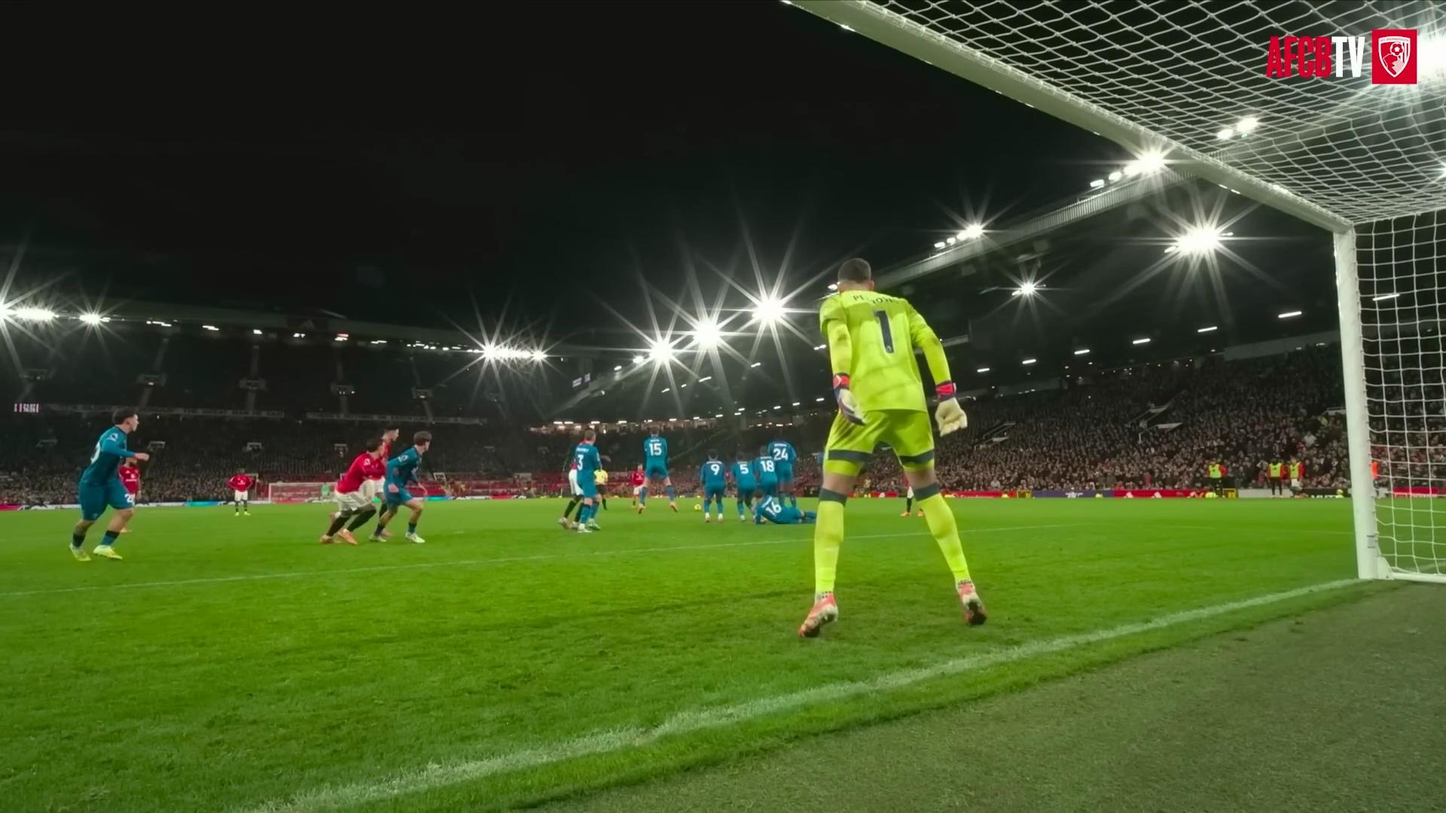player: (799, 259, 985, 636), (71, 409, 148, 560), (320, 438, 386, 544), (371, 431, 432, 543), (637, 425, 676, 513), (363, 424, 399, 510), (572, 428, 601, 532), (766, 440, 797, 507), (700, 450, 728, 522), (753, 492, 816, 524), (731, 451, 757, 521), (559, 455, 581, 529), (227, 469, 255, 515), (753, 447, 777, 496), (117, 458, 139, 507), (630, 464, 645, 507), (593, 470, 608, 509), (901, 485, 914, 516)
